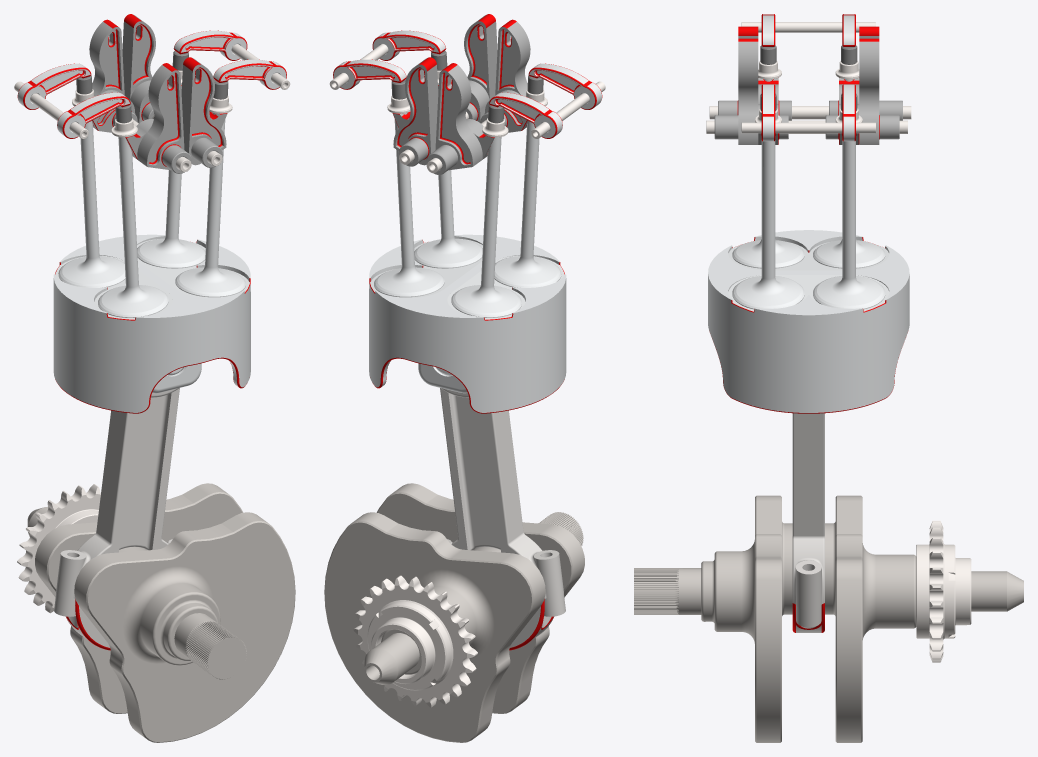
Rendered from piston-valve.gltf.
3 views of the same model, side by side, from view 1: azimuth 30°, elevation 25°; view 2: azimuth 150°, elevation 25°; view 3: azimuth 270°, elevation 25° (orthographic). The views are drawn at different scales.
Visible parts, largest first — view 1: Crankshaft-1, Piston Head-1, Connecting Rod-1, Closing Rocker Arm-1-2 (×2), Valve-4 (×2), Valve-3 (×2), Opening Rocker Arm-2-2, Sprocket Small-1, Rocker Arm-1 (×2), Rocker Arm-2 (×2), Opening Rocker Arm-2-1, Cap-1 (+1 smaller); view 2: Crankshaft-1, Piston Head-1, Connecting Rod-1, Sprocket Small-1, Valve-3 (×2), Valve-4 (×2), Closing Rocker Arm-1-2 (×2), Opening Rocker Arm-2-1, Rocker Arm-2 (×2), Rocker Arm-1 (×2), Opening Rocker Arm-2-2, Cap-1 (+1 smaller); view 3: Crankshaft-1, Piston Head-1, Connecting Rod-1, Sprocket Small-1, Valve-4 (×2), Valve-3 (×2), Closing Rocker Arm-1-2 (×2), Opening Rocker Arm-2-2, Rocker Shafts-2-1 (×2), Opening Rocker Arm-2-1, Rocker Arm-1, Cap-1 (+2 smaller).
Boxes of the visible parts, <box> form: Crankshaft-1: <box>27,483,295,742</box>; Piston Head-1: <box>53,234,250,413</box>; Connecting Rod-1: <box>56,388,179,598</box>; Closing Rocker Arm-1-2 (×2): <box>122,14,191,173</box>; Valve-4 (×2): <box>58,113,245,297</box>; Valve-3 (×2): <box>98,137,205,317</box>; Opening Rocker Arm-2-2: <box>181,57,227,167</box>; Sprocket Small-1: <box>17,484,100,613</box>; Rocker Arm-1 (×2): <box>17,59,286,109</box>; Rocker Arm-2 (×2): <box>57,30,247,138</box>; Opening Rocker Arm-2-1: <box>89,19,137,132</box>; Cap-1: <box>54,593,110,650</box>; Crankshaft-1: <box>324,483,584,742</box>; Piston Head-1: <box>369,234,566,413</box>; Connecting Rod-1: <box>440,388,563,598</box>; Sprocket Small-1: <box>353,575,477,707</box>; Valve-3 (×2): <box>374,113,561,297</box>; Valve-4 (×2): <box>414,137,521,317</box>; Closing Rocker Arm-1-2 (×2): <box>392,19,530,166</box>; Opening Rocker Arm-2-1: <box>426,63,494,174</box>; Rocker Arm-2 (×2): <box>333,59,602,109</box>; Rocker Arm-1 (×2): <box>372,30,562,138</box>; Opening Rocker Arm-2-2: <box>438,14,497,122</box>; Cap-1: <box>509,593,565,650</box>; Crankshaft-1: <box>634,495,1023,742</box>; Piston Head-1: <box>708,230,909,413</box>; Connecting Rod-1: <box>792,413,824,610</box>; Sprocket Small-1: <box>916,520,971,662</box>; Valve-4 (×2): <box>732,79,885,309</box>; Valve-3 (×2): <box>732,79,885,309</box>; Closing Rocker Arm-1-2 (×2): <box>718,26,899,144</box>; Opening Rocker Arm-2-2: <box>714,38,788,144</box>; Rocker Shafts-2-1 (×2): <box>741,22,875,133</box>; Opening Rocker Arm-2-1: <box>829,26,902,120</box>; Rocker Arm-1: <box>761,84,775,141</box>; Cap-1: <box>792,603,824,632</box>.
Bounding box in the file's own units: 0.2019 × 0.5705 × 0.29.
